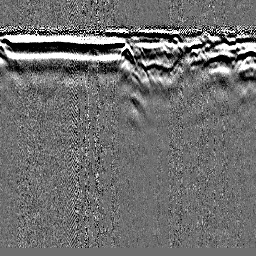cavity: (117, 41, 137, 66)
